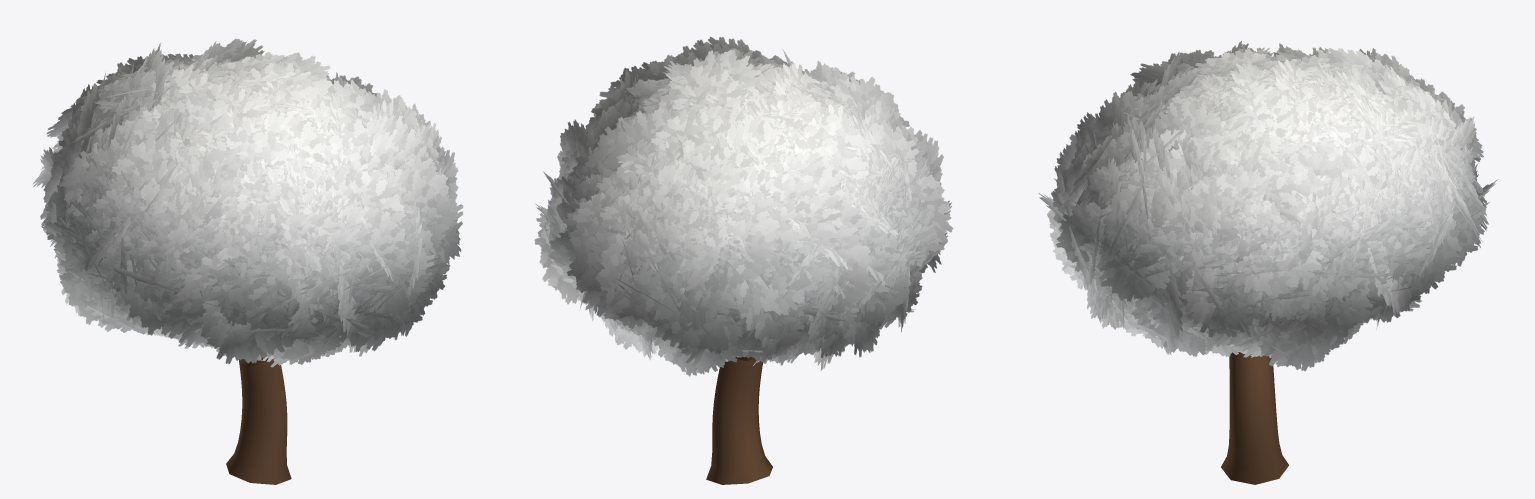
File: ek-hero.glb
3 renders of one model, left to right at view 1: azimuth 30°, elevation 25°; view 2: azimuth 150°, elevation 25°; view 3: azimuth 270°, elevation 25°, orthographic.
Parts seen in each view (by area): view 1: crown, trunk; view 2: crown, trunk; view 3: crown, trunk.
Part boxes in pixels (x1,y1,x2,y2): crown: (32, 38, 463, 367); trunk: (226, 357, 291, 484); crown: (534, 36, 953, 376); trunk: (706, 356, 772, 484); crown: (1038, 41, 1497, 371); trunk: (1221, 352, 1288, 484).
Bounding box in the file's own units: 16.96 × 16.72 × 18.39.
Materials: 2 (1 with a texture image).
